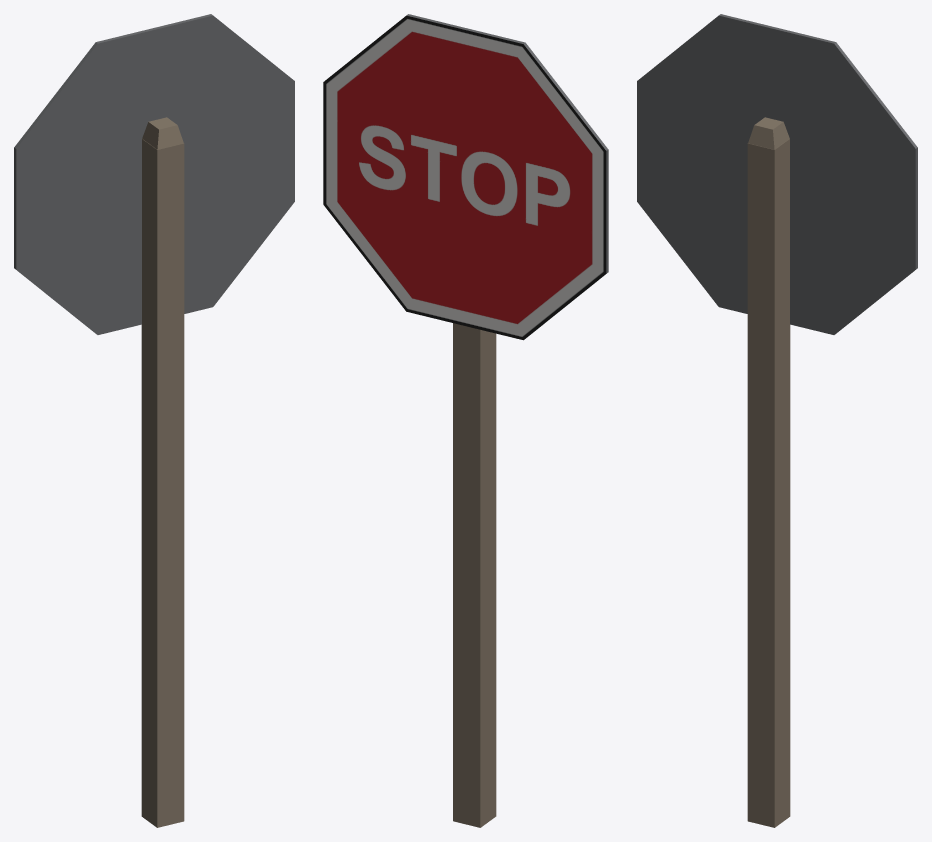
Rendered from sign-stop.glb.
3 views of the same model, side by side, from view 1: azimuth 30°, elevation 25°; view 2: azimuth 150°, elevation 25°; view 3: azimuth 330°, elevation 25° (orthographic).
Parts seen in each view (by area): view 1: sign-stop; view 2: sign-stop; view 3: sign-stop.
Boxes of the visible parts, left/top/right/bottom form: sign-stop: left=14, top=14, right=294, bottom=827; sign-stop: left=323, top=14, right=608, bottom=827; sign-stop: left=637, top=14, right=917, bottom=827.
Size of the model in its own units: 0.914 by 2.46 by 0.099.
3 materials, 1 textured.
